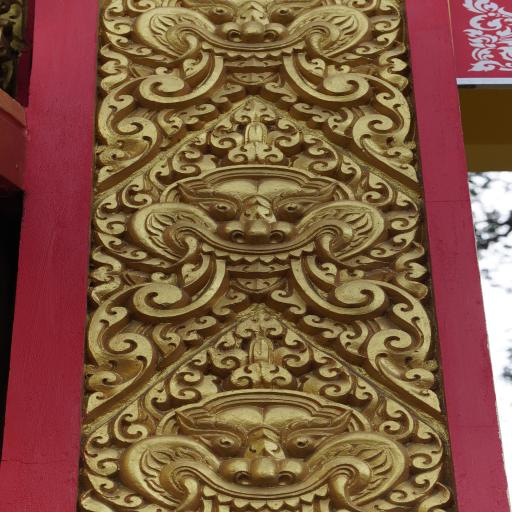la: (337, 279, 453, 414), (91, 278, 198, 406), (324, 67, 420, 179), (104, 72, 174, 184), (463, 0, 512, 75), (70, 421, 122, 475), (169, 134, 218, 180), (171, 352, 217, 400), (393, 242, 432, 296), (88, 248, 124, 302), (274, 330, 319, 373), (78, 473, 138, 505), (228, 360, 295, 388), (312, 346, 348, 398), (411, 419, 444, 474), (396, 467, 444, 504), (206, 334, 253, 370), (300, 134, 340, 176), (94, 44, 128, 90), (113, 402, 151, 442), (102, 28, 154, 57), (172, 100, 222, 130), (98, 233, 148, 262), (364, 168, 400, 208), (123, 173, 158, 212), (381, 395, 410, 442), (93, 195, 127, 235), (224, 140, 280, 164), (380, 42, 410, 86), (231, 103, 283, 128), (354, 374, 383, 416), (145, 377, 173, 420), (371, 232, 414, 260), (240, 313, 286, 338), (208, 121, 245, 152), (393, 189, 420, 231), (259, 81, 304, 106), (143, 154, 174, 188), (347, 34, 401, 53), (98, 1, 130, 32), (270, 119, 301, 150), (340, 151, 364, 190), (290, 102, 329, 126), (210, 82, 243, 109), (373, 0, 402, 30), (328, 104, 350, 140)
than: (136, 387, 404, 509), (148, 158, 374, 286), (133, 0, 380, 78)
